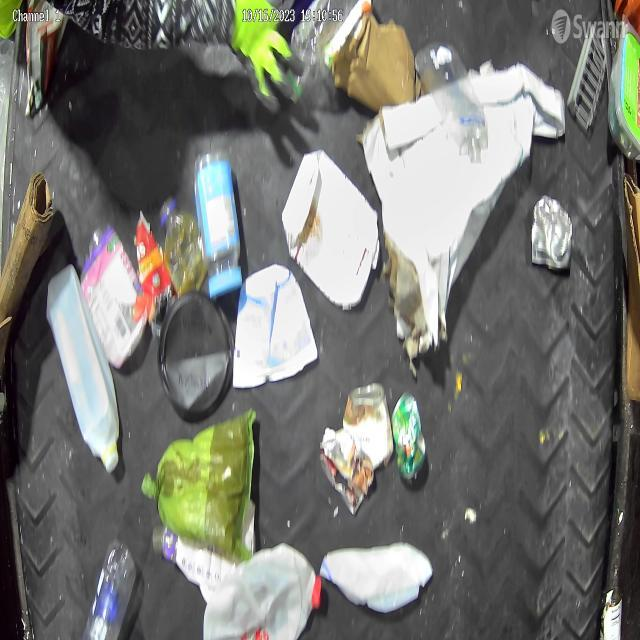can: (343, 375, 397, 473), (530, 193, 574, 277), (390, 390, 428, 482), (602, 585, 624, 640)
milk_jug: (279, 145, 383, 313), (44, 260, 124, 475), (199, 543, 324, 640)
plastic_bottle: (82, 536, 139, 640)
